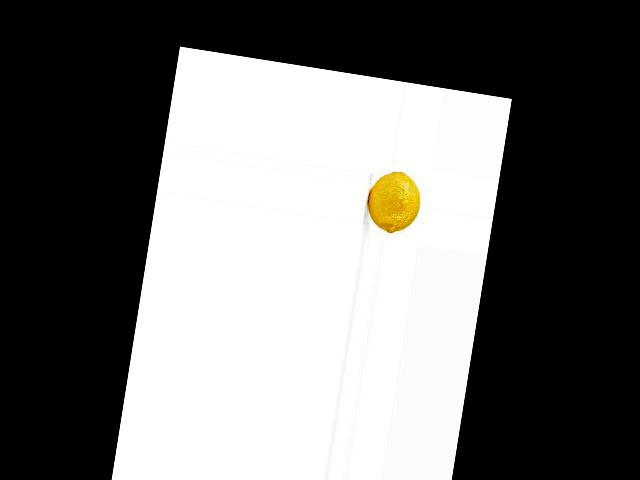lemon: (361, 161, 426, 246)
